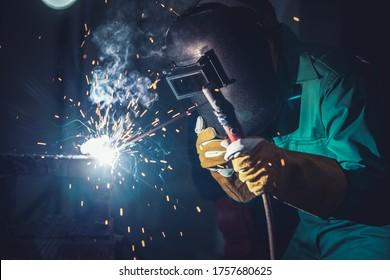gloves: (228, 136, 350, 217), (194, 115, 263, 205)
